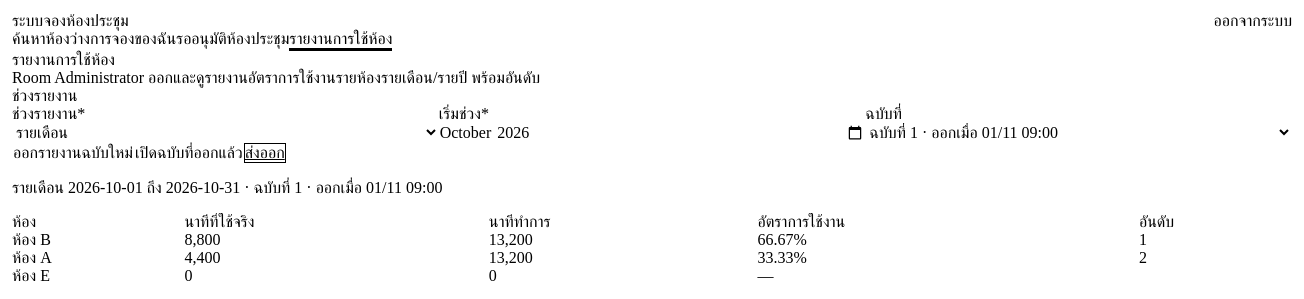
Test: FE-mrr-016 utilization report page (RPT-mrr-001) › a year asks for 1 January of that year
Select "รายปี" in the dropdown with test id "rpt-mrr-001-ent-012-period-type": x=225, y=132 [12,123,439,142]
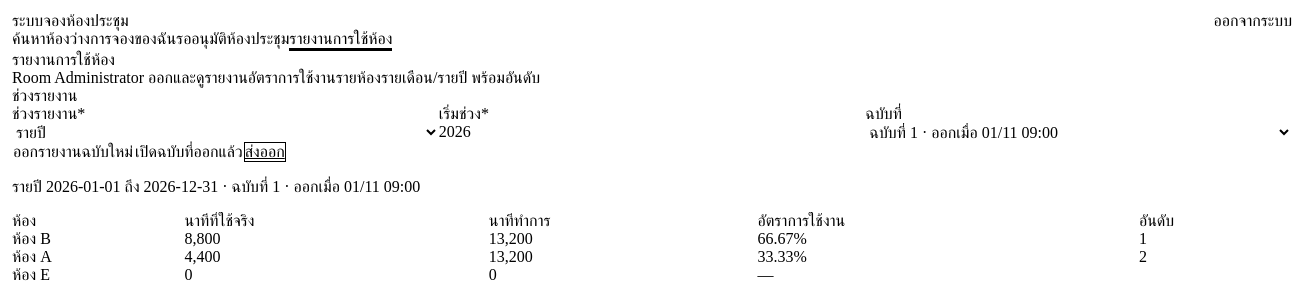
Now the number field with test id "rpt-mrr-001-ent-012-period-start" holds "2026", box [439,123,865,141]
